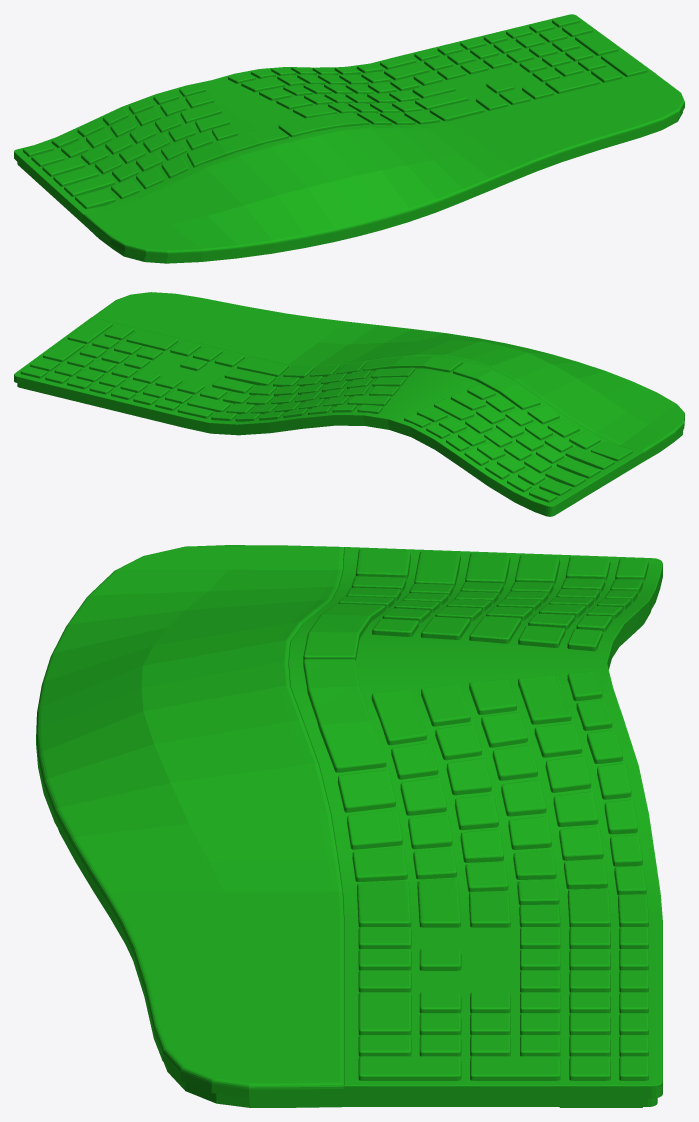
File: Microsoft_Surface_Ergonomic_Keyboard_OBJ.obj
3 renders of one model, top to bottom at view 1: azimuth 30°, elevation 25°; view 2: azimuth 150°, elevation 25°; view 3: azimuth 270°, elevation 25°, orthographic. The views are drawn at different scales.
Visible parts, largest first — view 1: Object002, Object003, Object005; view 2: Object002, Object003, Object005; view 3: Object002, Object003, Object005.
Boxes of the visible parts, box(x1,y1,x2,y2) form: Object002: box(14, 14, 656, 219); Object003: box(82, 74, 684, 258); Object005: box(17, 111, 682, 263); Object002: box(14, 317, 643, 512); Object003: box(92, 292, 684, 457); Object005: box(17, 383, 683, 516); Object002: box(288, 547, 662, 1098); Object003: box(36, 545, 345, 1098); Object005: box(58, 610, 657, 1107).
Bounding box in the file's own units: 16.58 × 1.43 × 8.11.
